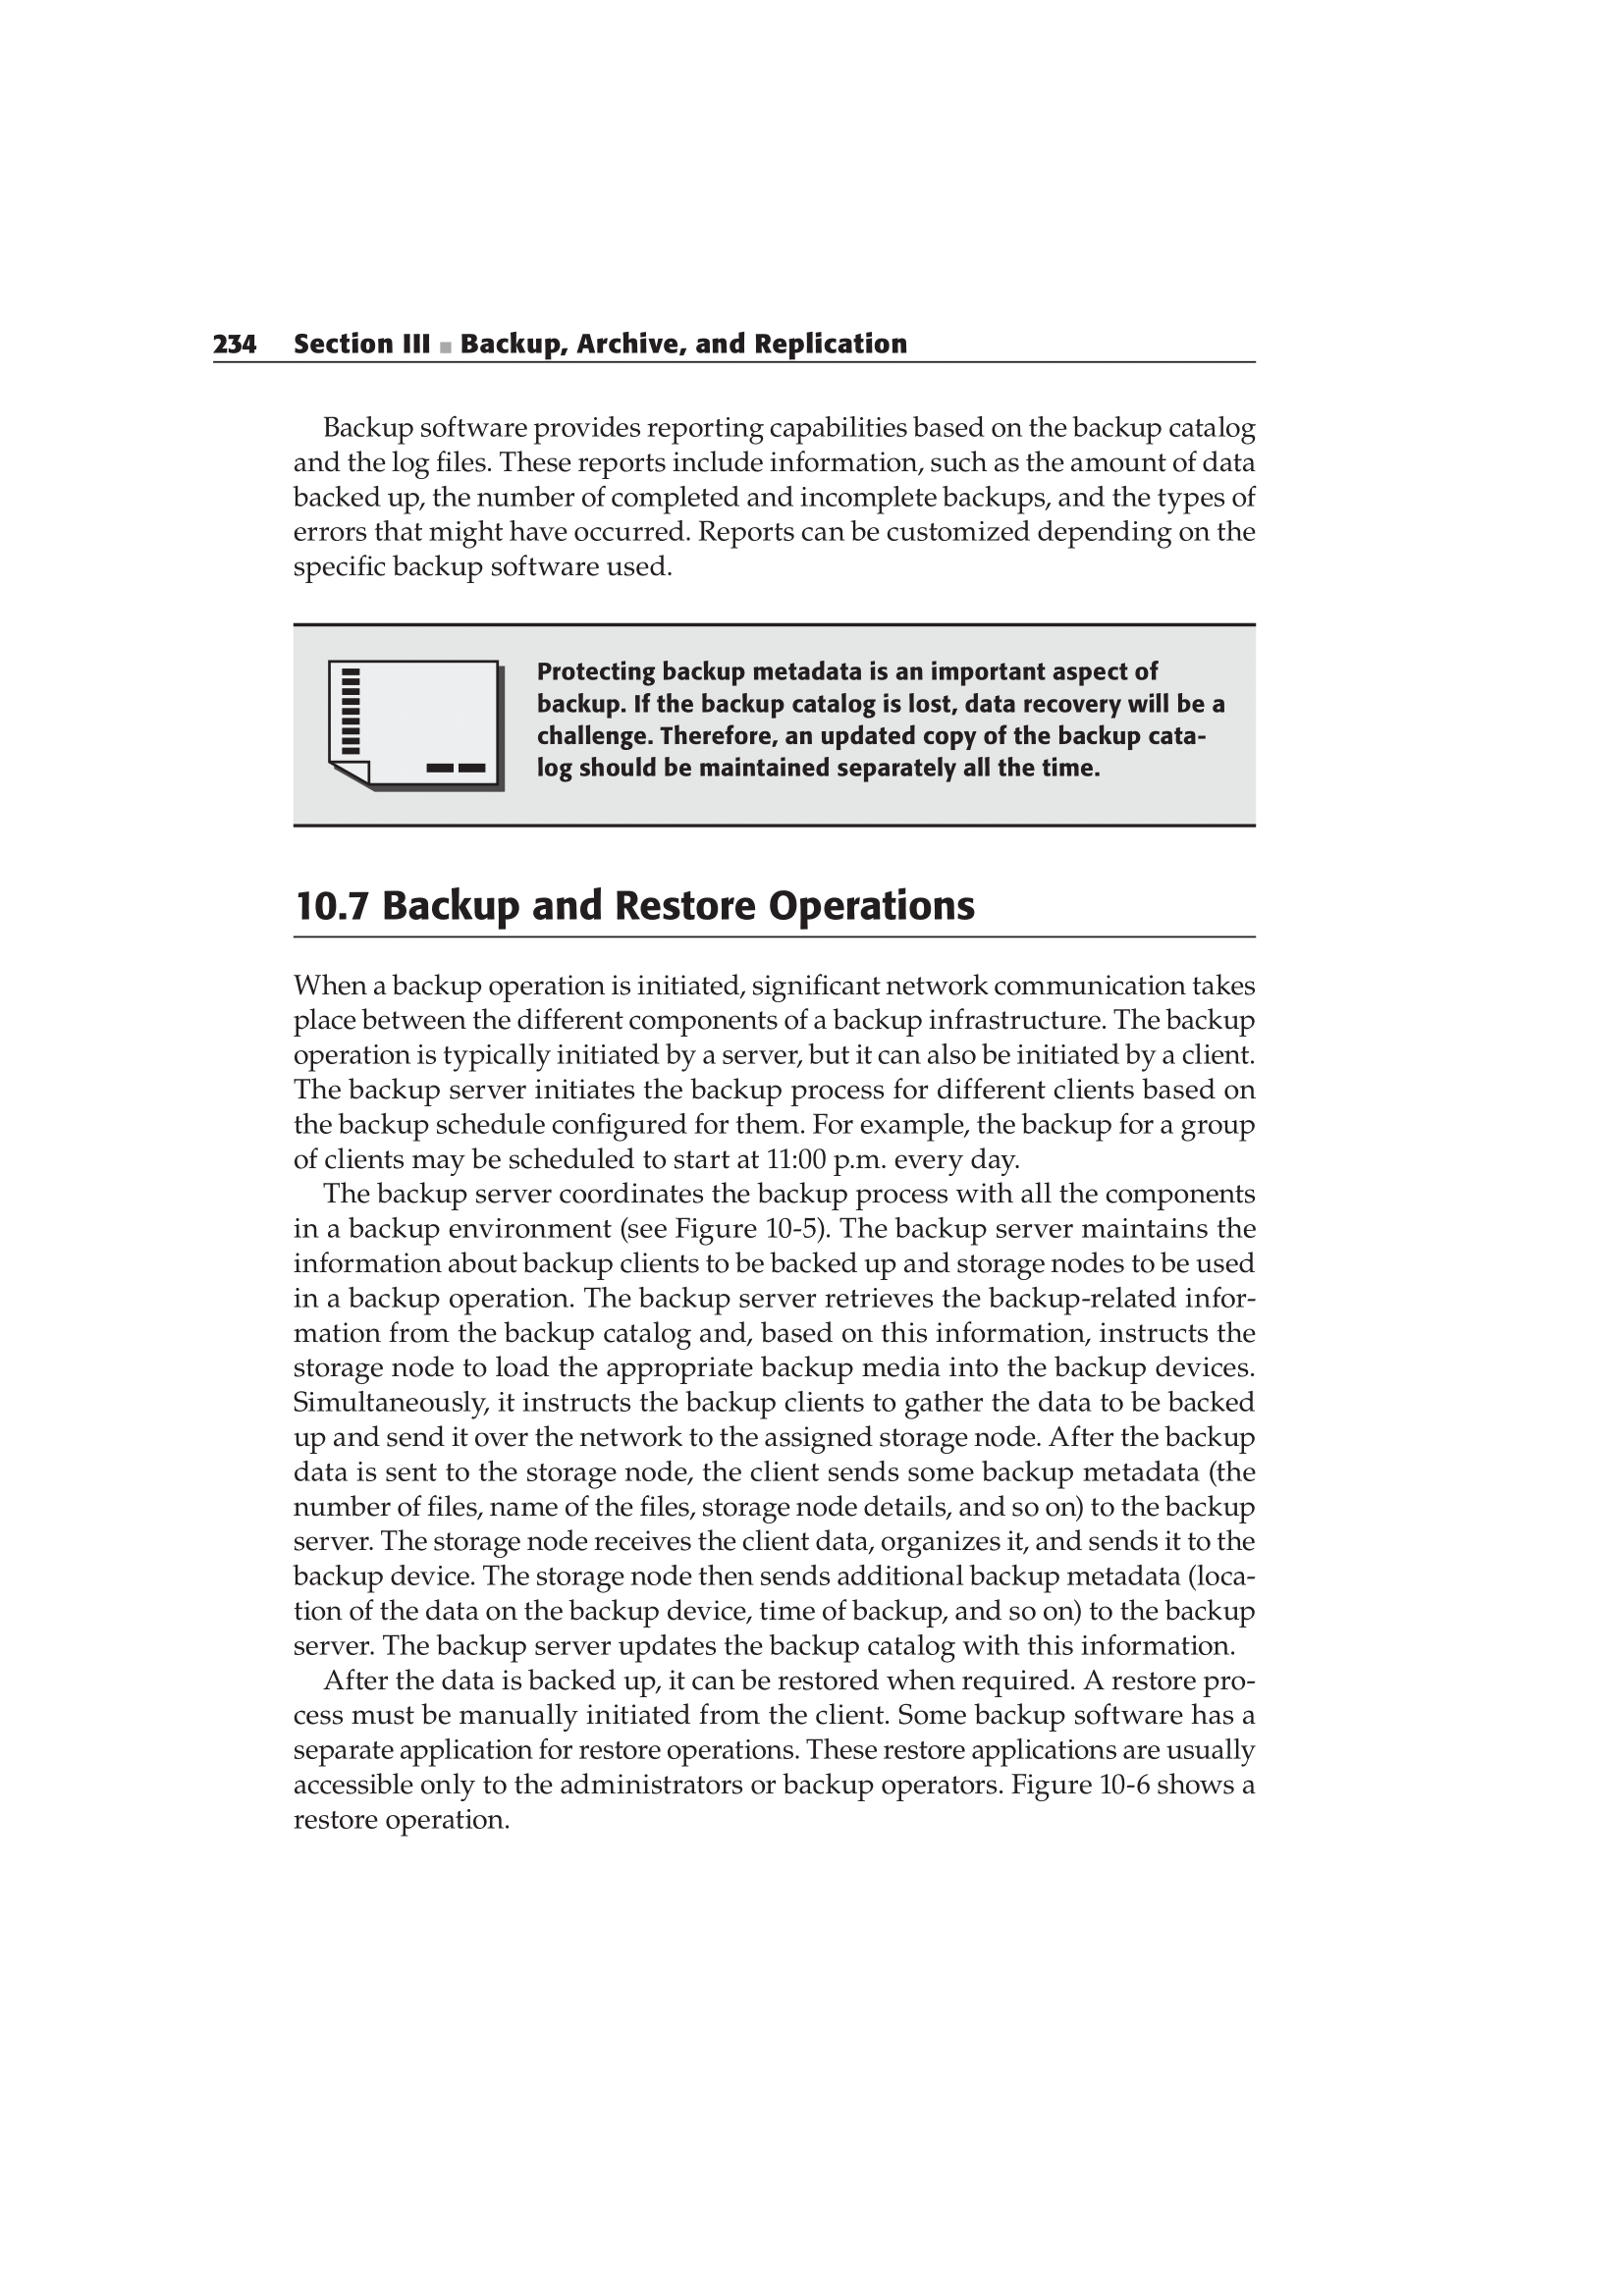Image: (320, 653, 530, 804)
Paragraph: (288, 1173, 1259, 1662), (297, 964, 1259, 1178), (283, 388, 1259, 585), (283, 1662, 1265, 1848), (539, 657, 1251, 790), (274, 867, 977, 922), (197, 314, 917, 360)
